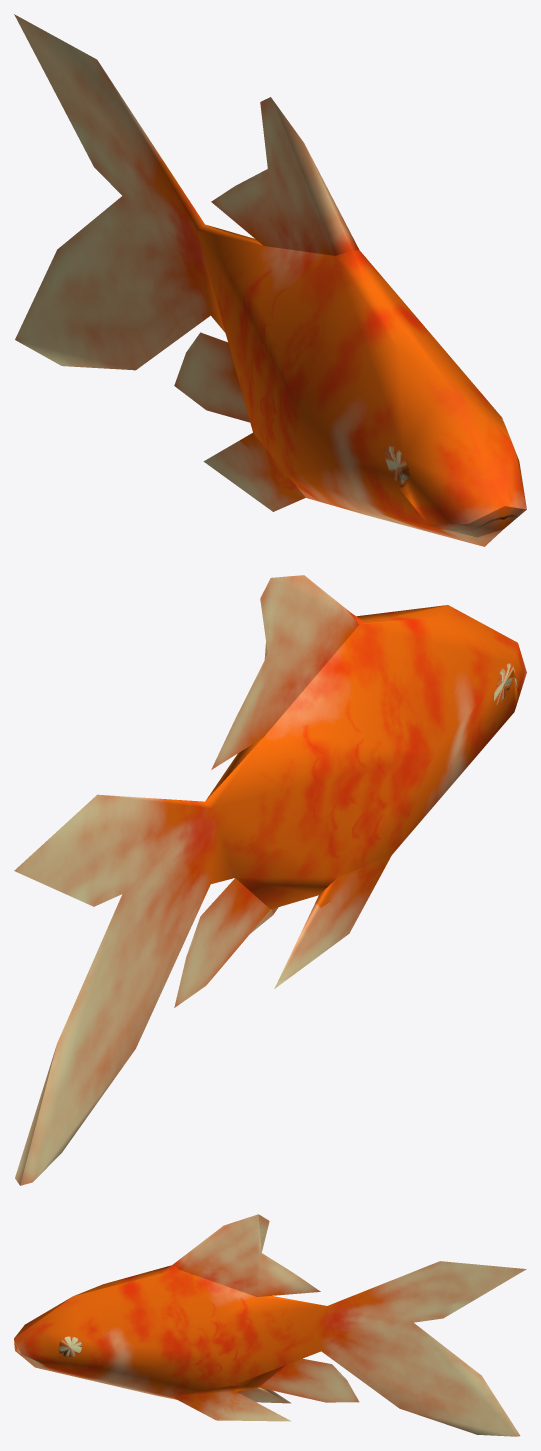
The model's file is fish.glb.
The picture shows the model from 3 angles, top to bottom: view 1: azimuth 30°, elevation 25°; view 2: azimuth 150°, elevation 25°; view 3: azimuth 270°, elevation 25°; orthographic projection. The views are drawn at different scales.
Visible parts, largest first — view 1: RetopoGroup1_Default_0; view 2: RetopoGroup1_Default_0; view 3: RetopoGroup1_Default_0.
Part boxes in pixels (x1,y1,x2,y2): RetopoGroup1_Default_0: (14,14,526,546); RetopoGroup1_Default_0: (14,575,526,1185); RetopoGroup1_Default_0: (14,1214,526,1436).
Bounding box in the file's own units: 1.02 × 3.07 × 6.43.
Materials: 1 (1 with a texture image).
